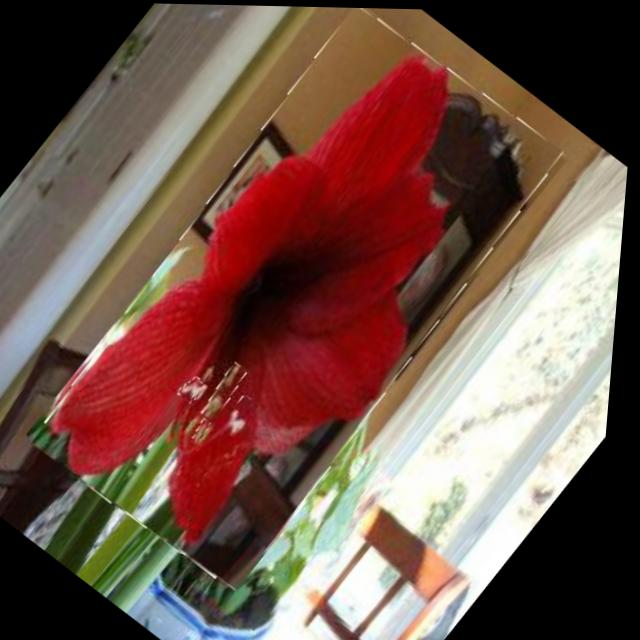Flower: (16, 1, 584, 599), (202, 360, 256, 422), (182, 372, 214, 405), (194, 417, 221, 446), (241, 392, 259, 411)
